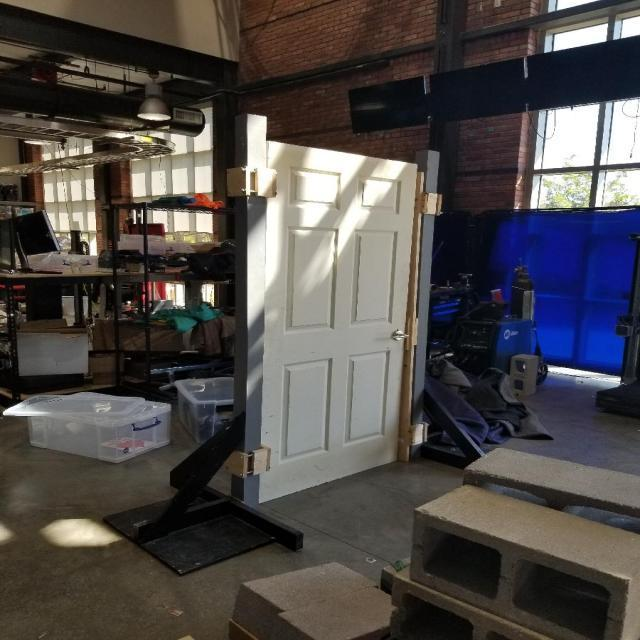door: (254, 137, 421, 507), (387, 327, 407, 344)
